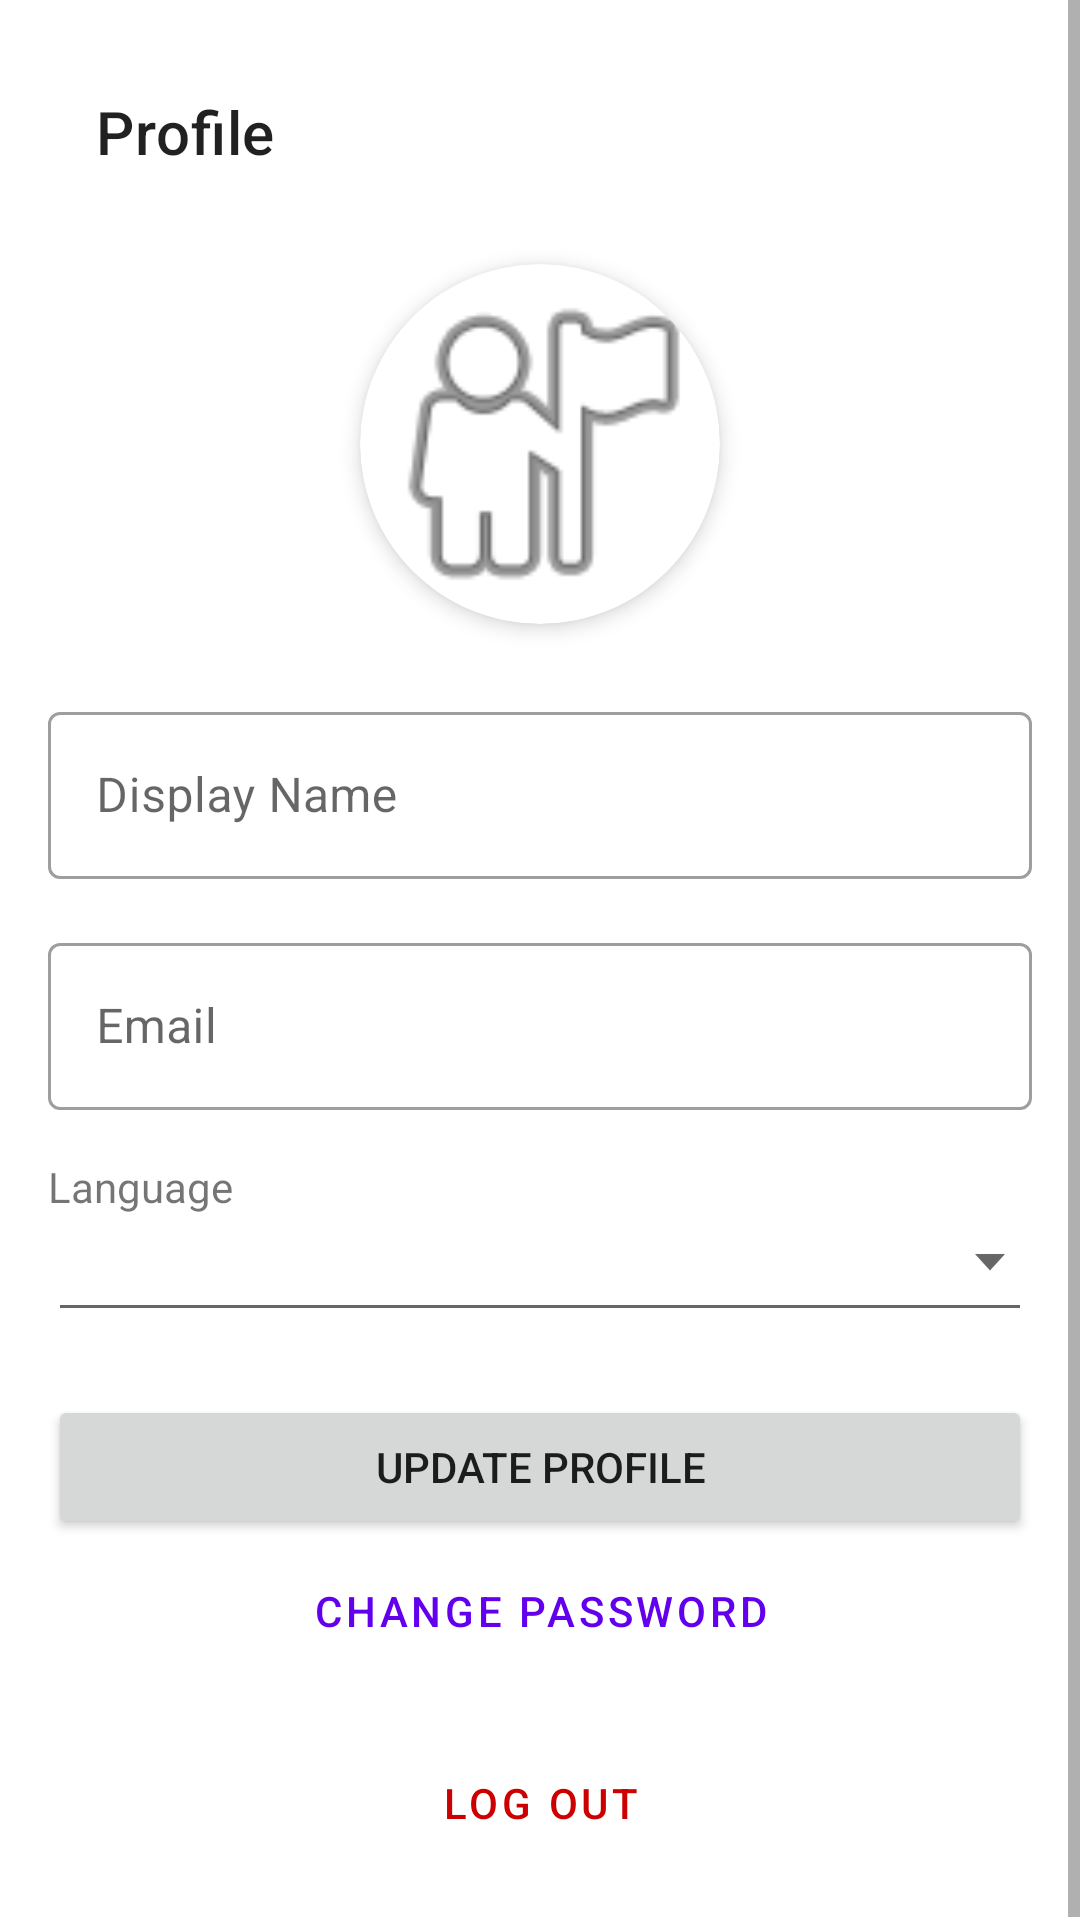

Icons on this 1080 × 1920 Android screen, each with the point to tap as [x,y]:
myplaces: [540,466]
